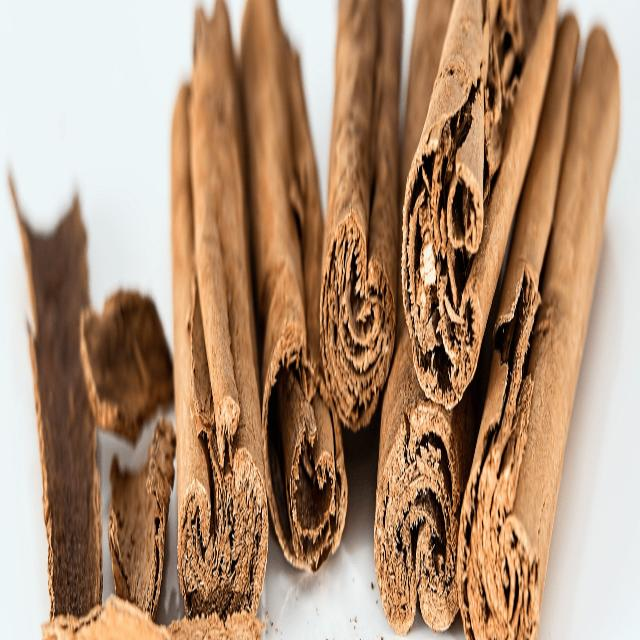Cinnamon: (458, 16, 619, 636), (506, 28, 620, 634), (241, 0, 348, 570), (171, 0, 268, 616), (402, 0, 524, 408), (442, 0, 558, 408), (9, 176, 102, 614), (320, 0, 402, 432), (374, 328, 475, 632), (494, 16, 579, 342), (80, 292, 174, 444), (399, 0, 452, 260), (109, 420, 176, 620), (446, 80, 484, 256)
